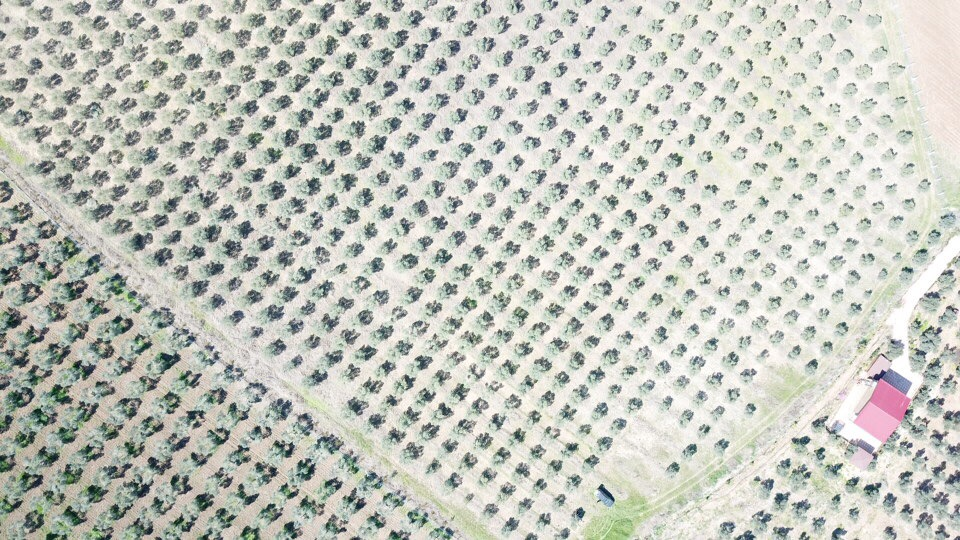oliveTree: (41, 236, 78, 267), (257, 399, 293, 429), (3, 281, 42, 308), (4, 473, 42, 500), (37, 385, 71, 415), (7, 512, 43, 540), (34, 341, 71, 367), (108, 398, 141, 427), (1, 242, 38, 267), (31, 487, 64, 515), (308, 435, 342, 462), (67, 254, 103, 279), (284, 413, 313, 444), (9, 326, 48, 349), (79, 340, 113, 366), (22, 448, 56, 474), (130, 416, 164, 442), (1, 387, 34, 413), (140, 309, 173, 335), (63, 402, 96, 428), (72, 486, 105, 512), (55, 153, 92, 176), (20, 261, 54, 286), (55, 363, 90, 387), (94, 273, 126, 299), (37, 138, 73, 161), (19, 409, 55, 432), (33, 302, 67, 326), (96, 316, 130, 340), (237, 382, 267, 409), (46, 427, 78, 452), (22, 220, 55, 244), (145, 353, 178, 377), (162, 329, 195, 353), (196, 430, 225, 457), (184, 493, 214, 519), (1, 201, 32, 226), (69, 443, 101, 467), (50, 511, 82, 535), (155, 435, 187, 459), (205, 469, 233, 496), (287, 459, 316, 485), (216, 405, 246, 430), (133, 462, 165, 485), (156, 479, 183, 506), (357, 470, 384, 497), (358, 512, 385, 539), (52, 280, 88, 300), (117, 292, 147, 316), (116, 483, 146, 507), (125, 378, 159, 399), (256, 180, 287, 203), (14, 367, 45, 390), (86, 425, 117, 448), (170, 371, 201, 394), (240, 426, 271, 449), (132, 179, 164, 201), (74, 299, 106, 321), (50, 465, 82, 487), (222, 448, 250, 473), (247, 463, 276, 487), (339, 397, 369, 420), (137, 58, 168, 80), (19, 125, 53, 145), (338, 492, 364, 518), (97, 183, 129, 204), (122, 335, 150, 359), (80, 382, 112, 403), (213, 365, 242, 388), (53, 119, 88, 138), (76, 170, 111, 189), (119, 233, 154, 252), (80, 49, 113, 69), (70, 101, 103, 121), (61, 188, 94, 208), (174, 88, 207, 108), (289, 142, 319, 164), (196, 389, 226, 411), (914, 480, 936, 510), (109, 129, 140, 150), (186, 191, 217, 212), (226, 489, 252, 514), (333, 451, 359, 476), (128, 25, 162, 44), (99, 218, 133, 237), (115, 200, 149, 219), (83, 199, 111, 222), (176, 411, 204, 434), (318, 517, 346, 540), (1, 110, 33, 130), (50, 86, 82, 106), (101, 63, 133, 83), (171, 53, 203, 73), (128, 145, 160, 165), (195, 101, 227, 121), (246, 79, 278, 99), (168, 175, 200, 195), (206, 47, 235, 69), (92, 465, 121, 487), (74, 134, 104, 155), (44, 173, 74, 194), (316, 478, 342, 502), (62, 320, 89, 343), (94, 507, 121, 530), (117, 44, 148, 64), (93, 149, 124, 169), (226, 64, 257, 84), (255, 305, 286, 325), (231, 254, 259, 276), (1, 434, 29, 456), (150, 394, 178, 416), (151, 39, 185, 57), (85, 83, 117, 102), (90, 115, 122, 134), (124, 109, 156, 128), (33, 73, 63, 93), (257, 25, 287, 45), (142, 247, 172, 267), (203, 172, 233, 192), (234, 132, 264, 152), (314, 71, 344, 91), (544, 181, 569, 205), (194, 345, 220, 368), (166, 21, 199, 39), (113, 441, 140, 463), (378, 490, 405, 512), (139, 92, 170, 111), (211, 83, 242, 102), (224, 28, 252, 49), (219, 151, 247, 172), (311, 36, 339, 57), (350, 66, 378, 87), (201, 137, 230, 157), (104, 357, 133, 377), (113, 12, 145, 30), (23, 160, 55, 178), (256, 504, 280, 528), (750, 477, 774, 501), (1, 350, 24, 375), (206, 510, 231, 533), (746, 512, 771, 535), (788, 466, 811, 491), (422, 334, 448, 356), (485, 292, 511, 314), (267, 441, 293, 463), (143, 127, 173, 146), (212, 240, 242, 259), (99, 29, 126, 50), (368, 48, 395, 69), (405, 355, 432, 376), (297, 501, 324, 522), (203, 15, 231, 35), (307, 3, 335, 23), (216, 117, 244, 137), (194, 224, 222, 244), (252, 269, 280, 289), (78, 15, 109, 33), (273, 8, 304, 26), (292, 22, 323, 40), (261, 60, 292, 78), (174, 245, 205, 263), (247, 115, 276, 134), (361, 411, 386, 433), (180, 453, 205, 475), (270, 484, 295, 506), (362, 134, 388, 155), (36, 106, 68, 123), (105, 97, 137, 114), (137, 214, 169, 231), (160, 108, 190, 126), (230, 99, 260, 117), (153, 196, 183, 214), (295, 57, 325, 75), (325, 19, 355, 37), (300, 89, 330, 107), (287, 108, 314, 128), (254, 147, 284, 165), (183, 279, 210, 299), (305, 123, 332, 143), (386, 340, 413, 360), (12, 22, 40, 41), (243, 45, 271, 64), (167, 141, 195, 160), (210, 205, 238, 224), (226, 221, 254, 240), (274, 162, 302, 181), (159, 521, 187, 540), (140, 501, 163, 524), (920, 328, 942, 352), (111, 166, 142, 183), (185, 157, 216, 174), (306, 246, 331, 267), (185, 2, 214, 20), (278, 40, 307, 58), (172, 210, 201, 228), (264, 95, 293, 113), (287, 267, 316, 285), (160, 73, 187, 92), (331, 51, 358, 70), (335, 87, 362, 106), (399, 10, 426, 29), (523, 323, 550, 342), (932, 493, 951, 520), (60, 1, 92, 17), (33, 39, 63, 56), (68, 69, 98, 86), (192, 70, 222, 87), (341, 1, 371, 18), (49, 52, 77, 70), (918, 292, 942, 313), (467, 277, 492, 297), (400, 442, 425, 462), (275, 129, 301, 148), (198, 260, 224, 279), (199, 293, 225, 312), (274, 286, 300, 305), (452, 297, 478, 316), (515, 254, 541, 273), (544, 338, 570, 357), (361, 13, 390, 30), (20, 93, 47, 111), (239, 12, 266, 30), (280, 197, 307, 215), (356, 379, 383, 397), (916, 513, 934, 540), (507, 306, 529, 328), (147, 7, 177, 23), (349, 152, 373, 172), (370, 325, 394, 345), (149, 162, 177, 179), (384, 30, 409, 49), (436, 39, 461, 58), (391, 376, 416, 395), (249, 235, 275, 253), (924, 360, 942, 386), (497, 359, 519, 380), (476, 467, 498, 488), (406, 509, 428, 530), (406, 43, 429, 63), (335, 173, 358, 193), (608, 139, 631, 159), (938, 306, 958, 329), (65, 34, 92, 51), (283, 75, 310, 92), (182, 122, 206, 141), (392, 98, 416, 117), (318, 314, 342, 333), (337, 329, 361, 348), (617, 243, 641, 262), (328, 139, 353, 157), (296, 178, 321, 196), (270, 251, 295, 269), (378, 395, 403, 413), (122, 522, 147, 540), (121, 78, 149, 94), (347, 33, 373, 50), (403, 321, 429, 338), (472, 158, 493, 179), (788, 500, 809, 521), (264, 338, 286, 358), (525, 169, 547, 189), (448, 383, 470, 403), (409, 75, 432, 94), (489, 15, 512, 34), (407, 200, 430, 219), (413, 267, 436, 286), (435, 282, 458, 301), (398, 407, 421, 426), (613, 174, 636, 193), (589, 280, 612, 299), (46, 21, 73, 37), (239, 289, 263, 307), (449, 264, 473, 282), (629, 35, 653, 53), (586, 247, 610, 265), (1, 77, 29, 92), (302, 211, 323, 231), (541, 148, 562, 168), (555, 128, 576, 148), (474, 311, 495, 331), (627, 156, 648, 176), (582, 213, 603, 233), (418, 422, 439, 442), (562, 317, 583, 337), (497, 482, 517, 503), (569, 385, 590, 405), (595, 313, 615, 334), (376, 81, 398, 100), (426, 57, 448, 76), (322, 228, 344, 247), (463, 88, 485, 107), (439, 161, 461, 180), (411, 235, 433, 254), (445, 230, 467, 249), (533, 234, 555, 253), (457, 451, 479, 470), (832, 14, 854, 33), (864, 481, 883, 503), (275, 524, 301, 540), (317, 193, 340, 211), (378, 117, 401, 135), (311, 281, 334, 299), (375, 360, 398, 378), (460, 331, 483, 349), (664, 187, 687, 205), (353, 345, 377, 362), (355, 188, 375, 208), (483, 261, 508, 277), (443, 472, 463, 492), (499, 517, 519, 537), (556, 405, 576, 425), (656, 239, 676, 259), (770, 493, 790, 513), (323, 349, 344, 368), (589, 125, 610, 144), (415, 387, 436, 406), (701, 63, 722, 82), (549, 373, 570, 392), (625, 276, 646, 295), (600, 348, 621, 367), (790, 437, 811, 456), (823, 462, 844, 481), (314, 158, 336, 176), (220, 276, 242, 294), (223, 310, 245, 328), (455, 20, 477, 38), (414, 113, 436, 131), (398, 132, 420, 150), (338, 207, 360, 225), (349, 276, 371, 294), (571, 110, 593, 128), (442, 316, 464, 334), (383, 428, 405, 446), (685, 81, 707, 99), (554, 251, 576, 269), (543, 303, 565, 321), (558, 286, 580, 304), (572, 266, 594, 284), (26, 7, 54, 21), (541, 29, 564, 46), (513, 65, 536, 82), (424, 181, 447, 198), (305, 369, 328, 386), (930, 429, 947, 452), (241, 167, 267, 182), (453, 420, 477, 436), (909, 348, 925, 372), (362, 102, 382, 121), (461, 54, 481, 73), (446, 74, 466, 93), (386, 151, 406, 170), (539, 113, 559, 132), (532, 200, 551, 220), (504, 272, 524, 291), (617, 209, 637, 228), (738, 91, 758, 110), (725, 111, 745, 130), (480, 504, 500, 523), (509, 464, 529, 483), (589, 404, 609, 423), (653, 360, 672, 380), (168, 265, 189, 283), (371, 169, 392, 187), (282, 318, 303, 336), (388, 184, 409, 202), (364, 257, 385, 275), (369, 289, 390, 307), (340, 363, 361, 381), (467, 244, 488, 262), (484, 225, 505, 243), (511, 187, 532, 205), (430, 369, 451, 387), (731, 25, 752, 43), (632, 189, 653, 207), (766, 20, 787, 38), (637, 223, 658, 241), (518, 375, 539, 393), (587, 366, 605, 387), (714, 521, 735, 539), (926, 399, 944, 420), (246, 203, 268, 220), (344, 122, 366, 139), (429, 94, 451, 111), (332, 297, 354, 314), (402, 286, 424, 303), (538, 270, 560, 287), (569, 508, 586, 530), (591, 437, 613, 454), (158, 230, 181, 246), (288, 230, 311, 246), (474, 37, 497, 53), (888, 339, 904, 362), (219, 1, 247, 14), (749, 4, 768, 23), (770, 55, 789, 74), (582, 454, 601, 473), (788, 70, 807, 89), (941, 346, 960, 365), (94, 1, 124, 13), (320, 108, 344, 123), (374, 204, 394, 222), (395, 218, 415, 236), (562, 42, 582, 60), (491, 174, 511, 192), (423, 300, 443, 318), (564, 199, 584, 217), (602, 228, 622, 246), (711, 131, 731, 149), (576, 300, 596, 318), (515, 498, 535, 516), (528, 480, 548, 498), (633, 346, 653, 364), (763, 140, 783, 158), (817, 33, 837, 51), (670, 375, 690, 393), (270, 216, 291, 233), (530, 46, 551, 63), (467, 125, 488, 142), (377, 238, 398, 255), (458, 178, 479, 195), (518, 100, 539, 117), (432, 249, 453, 266), (586, 92, 607, 109), (623, 124, 644, 141), (433, 403, 454, 420), (647, 171, 668, 188), (751, 41, 772, 58), (910, 419, 927, 440), (426, 216, 448, 232), (444, 352, 466, 368), (656, 118, 678, 134), (465, 364, 487, 380), (898, 471, 914, 493), (491, 330, 514, 345), (345, 241, 364, 259), (355, 309, 374, 327), (498, 205, 516, 224), (518, 221, 536, 240), (655, 84, 674, 102), (684, 47, 703, 65), (785, 37, 804, 55), (473, 433, 492, 451), (545, 460, 564, 478), (528, 444, 547, 462), (536, 391, 555, 409), (775, 89, 793, 108), (794, 105, 813, 123), (805, 51, 823, 70), (688, 355, 707, 373), (24, 58, 44, 75), (232, 186, 252, 203), (437, 5, 457, 22), (471, 1, 491, 18), (301, 334, 321, 351), (443, 196, 463, 213), (616, 54, 636, 71), (640, 104, 660, 121), (470, 398, 490, 415), (663, 152, 683, 169), (707, 96, 727, 113), (508, 429, 528, 446), (568, 351, 585, 371), (636, 380, 656, 397), (869, 46, 889, 63), (886, 63, 906, 80), (938, 272, 955, 292), (1, 44, 22, 60), (454, 143, 475, 159), (397, 254, 418, 270), (642, 258, 663, 274), (883, 493, 897, 517), (420, 27, 442, 42), (945, 410, 960, 432), (915, 387, 930, 409), (495, 50, 513, 68), (560, 9, 578, 27), (478, 191, 496, 209), (621, 89, 639, 107), (569, 232, 587, 250), (693, 114, 711, 132), (609, 262, 627, 280), (488, 413, 506, 431), (492, 447, 510, 465), (745, 128, 763, 146), (800, 172, 818, 190), (828, 254, 846, 272), (844, 271, 862, 289), (450, 108, 469, 125), (525, 13, 544, 30), (486, 139, 505, 156), (463, 212, 482, 229), (602, 73, 621, 90), (501, 241, 520, 258), (580, 180, 599, 197), (595, 162, 614, 179), (600, 195, 619, 212), (524, 288, 543, 305), (737, 59, 754, 78), (608, 419, 627, 436), (616, 330, 633, 349), (691, 236, 710, 253), (734, 180, 753, 197), (836, 48, 855, 65), (718, 317, 735, 336), (810, 449, 827, 468), (434, 128, 454, 144), (498, 86, 518, 102), (636, 71, 656, 87), (644, 139, 664, 155), (479, 346, 499, 362), (651, 205, 671, 221), (718, 200, 738, 216), (770, 210, 790, 226), (236, 527, 260, 540), (325, 264, 347, 278), (511, 343, 533, 357), (946, 443, 960, 465), (285, 355, 303, 372), (508, 154, 525, 172), (668, 33, 685, 51), (715, 11, 733, 28), (814, 1, 832, 18), (799, 19, 817, 36), (625, 398, 643, 415), (632, 311, 650, 328), (683, 324, 701, 341), (665, 307, 683, 324), (694, 270, 712, 287), (671, 221, 689, 238), (684, 203, 702, 220), (807, 85, 825, 102), (915, 178, 933, 195), (780, 275, 797, 293), (746, 281, 763, 299), (751, 316, 769, 333), (691, 390, 709, 407), (940, 378, 957, 396), (393, 64, 412, 80), (680, 14, 699, 30), (423, 459, 442, 475), (780, 4, 799, 20), (618, 366, 637, 382), (752, 196, 771, 212), (832, 170, 851, 186), (713, 439, 729, 458), (257, 1, 282, 13), (418, 149, 438, 164), (479, 74, 499, 89), (596, 41, 616, 56), (522, 136, 542, 151), (699, 30, 719, 45), (948, 505, 960, 530), (912, 451, 927, 471), (945, 472, 960, 492), (769, 527, 792, 540), (360, 222, 377, 239), (487, 105, 504, 122), (553, 98, 570, 115), (606, 107, 623, 124), (441, 438, 458, 455), (723, 77, 740, 94), (651, 328, 668, 345), (800, 326, 817, 343), (706, 373, 723, 390), (810, 416, 827, 433), (912, 249, 929, 266), (405, 167, 423, 183), (389, 306, 407, 322), (551, 217, 569, 233), (674, 101, 692, 117), (536, 513, 552, 531), (565, 474, 583, 490), (606, 384, 622, 402), (680, 290, 698, 306), (739, 214, 757, 230), (778, 125, 796, 141), (759, 109, 777, 125), (855, 64, 873, 80), (810, 240, 828, 256), (430, 528, 454, 540), (939, 213, 957, 229), (670, 68, 689, 83), (485, 379, 504, 394), (533, 357, 552, 372), (542, 426, 561, 441), (889, 97, 908, 112), (678, 409, 693, 428), (505, 1, 525, 15), (379, 1, 404, 12), (299, 300, 316, 316), (596, 6, 613, 22), (563, 165, 580, 181), (696, 150, 713, 166), (504, 394, 521, 410), (562, 443, 579, 459), (647, 293, 664, 309), (700, 306, 717, 322), (728, 268, 745, 284), (750, 162, 767, 178), (731, 145, 748, 161), (845, 117, 861, 134), (841, 83, 858, 99), (860, 99, 877, 115), (896, 129, 913, 145), (867, 167, 884, 183), (887, 216, 904, 232), (820, 188, 836, 205), (837, 202, 854, 218), (823, 222, 839, 239), (832, 322, 849, 338), (776, 245, 793, 261), (784, 310, 800, 327), (724, 387, 741, 403), (709, 405, 725, 422), (511, 34, 529, 49), (505, 121, 523, 136), (535, 81, 553, 96), (650, 52, 668, 67), (755, 75, 773, 90), (743, 249, 761, 264), (725, 233, 743, 248), (700, 186, 718, 201), (786, 193, 804, 208), (880, 149, 898, 164), (855, 218, 873, 233), (841, 239, 859, 254), (732, 300, 750, 315), (900, 505, 915, 523), (926, 229, 941, 247), (585, 60, 604, 74), (647, 19, 666, 33), (551, 62, 567, 78), (578, 145, 594, 161), (551, 494, 567, 510), (576, 424, 592, 440), (678, 254, 694, 270), (798, 138, 814, 154), (866, 14, 882, 30), (795, 258, 811, 274), (681, 170, 698, 185), (612, 297, 629, 312), (709, 251, 726, 266), (899, 163, 916, 178), (722, 352, 739, 367), (682, 443, 697, 460), (897, 440, 912, 457), (898, 267, 913, 284), (1, 96, 15, 114), (245, 327, 263, 341), (663, 1, 681, 15), (670, 345, 688, 359), (660, 276, 678, 290), (875, 115, 893, 129), (805, 359, 819, 377), (659, 396, 673, 414), (776, 459, 790, 477), (933, 526, 951, 540), (625, 5, 644, 18), (716, 46, 735, 59), (571, 78, 587, 93), (526, 411, 541, 427), (812, 122, 828, 137), (830, 136, 846, 151), (825, 103, 841, 118), (824, 68, 839, 84), (849, 151, 864, 167), (870, 200, 885, 216), (859, 253, 875, 268), (803, 208, 818, 224), (814, 274, 830, 289), (740, 369, 756, 384), (665, 462, 680, 478), (810, 518, 825, 534), (714, 285, 731, 299), (797, 294, 815, 307), (932, 463, 945, 481), (815, 156, 830, 171), (863, 133, 878, 148), (852, 185, 867, 200), (761, 263, 776, 278), (704, 337, 719, 352), (614, 24, 630, 38), (678, 133, 694, 147), (770, 176, 784, 192), (882, 526, 898, 540), (584, 336, 601, 349), (784, 158, 801, 171), (873, 83, 890, 96), (536, 1, 558, 11), (758, 230, 773, 244), (901, 198, 916, 212), (884, 183, 898, 198), (848, 303, 862, 318), (815, 309, 830, 323), (845, 478, 860, 492), (694, 1, 713, 12), (580, 26, 596, 39), (904, 231, 920, 244), (820, 341, 833, 357), (769, 331, 785, 344), (848, 507, 861, 523), (554, 528, 571, 540), (769, 296, 783, 310), (707, 219, 722, 232), (788, 345, 801, 360), (744, 403, 756, 419), (831, 290, 844, 304), (739, 336, 752, 350), (908, 318, 922, 331), (847, 1, 862, 13), (829, 496, 841, 511), (793, 227, 806, 240), (698, 423, 709, 438), (877, 268, 889, 281), (419, 1, 438, 9), (572, 1, 592, 8), (730, 1, 747, 9), (862, 289, 873, 300), (891, 253, 903, 262)
